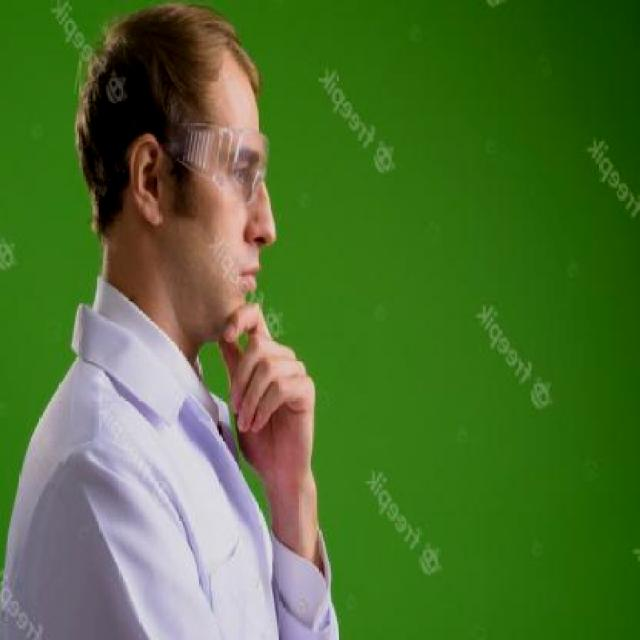face_nomask: (204, 130, 296, 307)
glasses: (138, 119, 270, 203)
hand_noglove: (213, 301, 324, 447)
head_nohelmet: (95, 0, 279, 117)
person: (14, 7, 347, 640)
